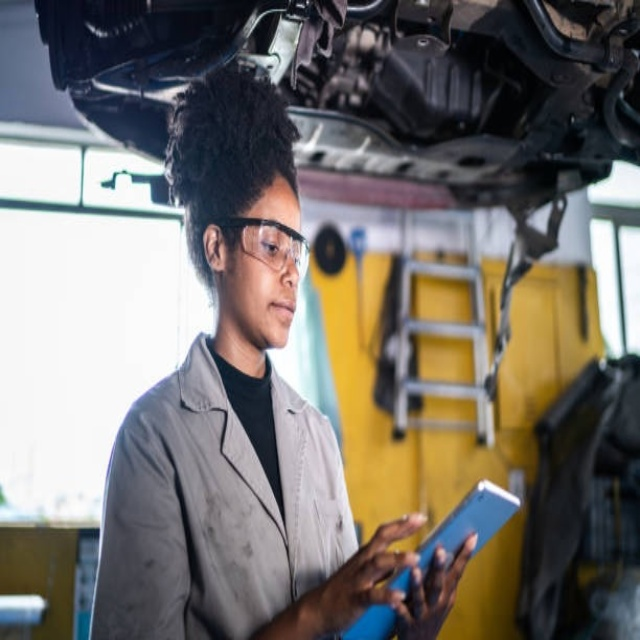Gafas: (217, 217, 312, 279)
Sin_guantes: (325, 504, 432, 634), (392, 534, 481, 640)
Sin_mascara: (253, 290, 300, 345)
